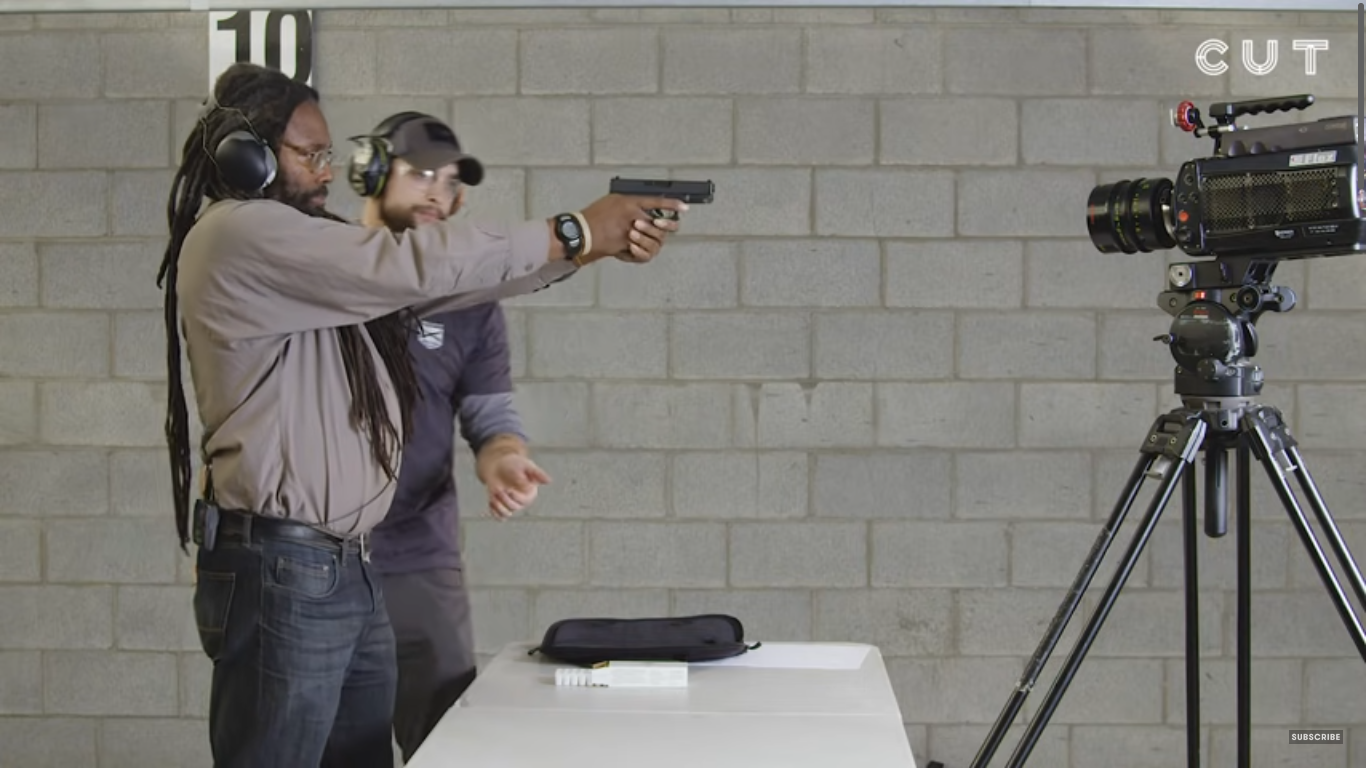gun: (604, 171, 717, 238)
p_w_gun: (157, 57, 718, 768)
p_wo_gun_not_carrying_normal_pose: (337, 108, 551, 747)
